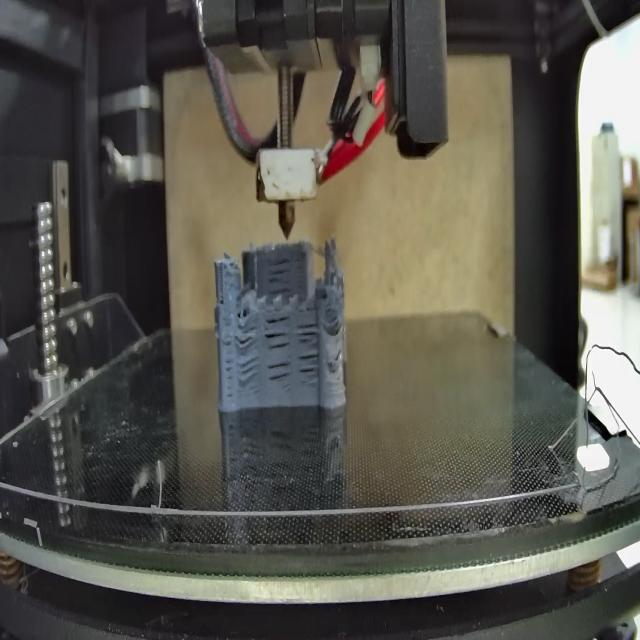cracks: (264, 316, 292, 349), (269, 258, 296, 290), (268, 358, 292, 392), (223, 326, 233, 401), (237, 317, 258, 348), (298, 354, 320, 383), (296, 323, 320, 347), (238, 357, 260, 383), (326, 314, 344, 334), (329, 349, 344, 364), (220, 290, 228, 308)
